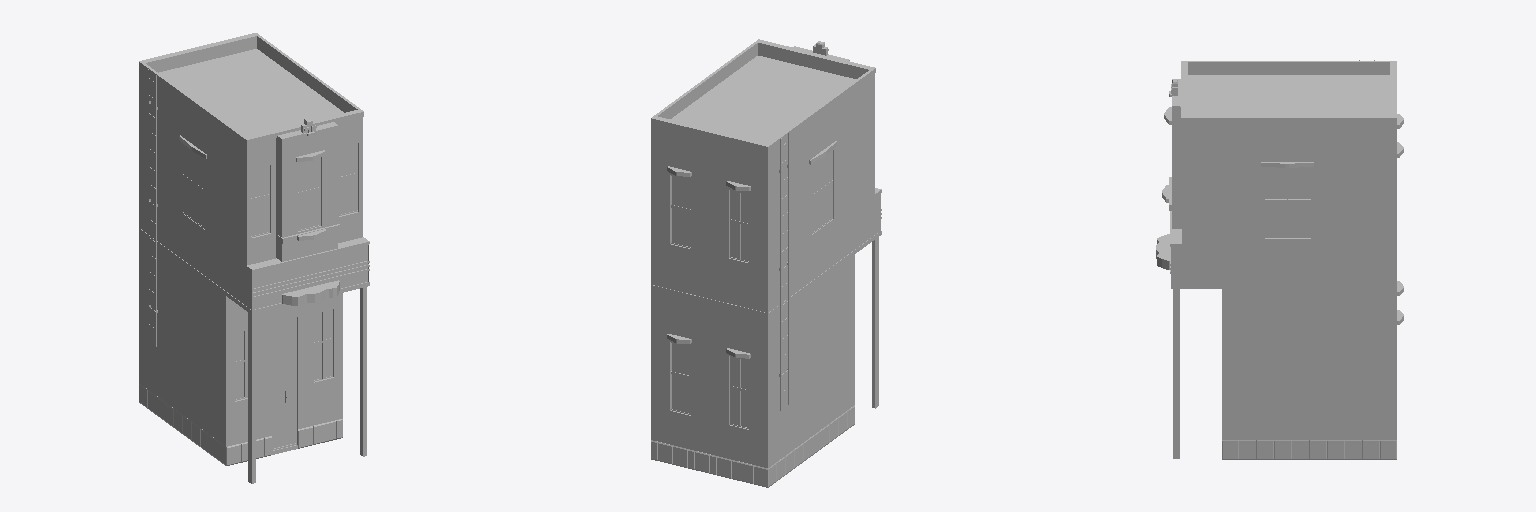
The model's file is casa1.obj.
3 views of the same model, side by side, from view 1: azimuth 30°, elevation 25°; view 2: azimuth 150°, elevation 25°; view 3: azimuth 270°, elevation 25° (orthographic).
Visible parts, largest first — view 1: building; view 2: building; view 3: building.
Boxes of the visible parts, x1,y1,x2,y2 form: building: [139, 33, 369, 483]; building: [651, 39, 881, 487]; building: [1156, 60, 1403, 459].
Bounding box in the file's own units: 2.27 × 6.15 × 3.95.